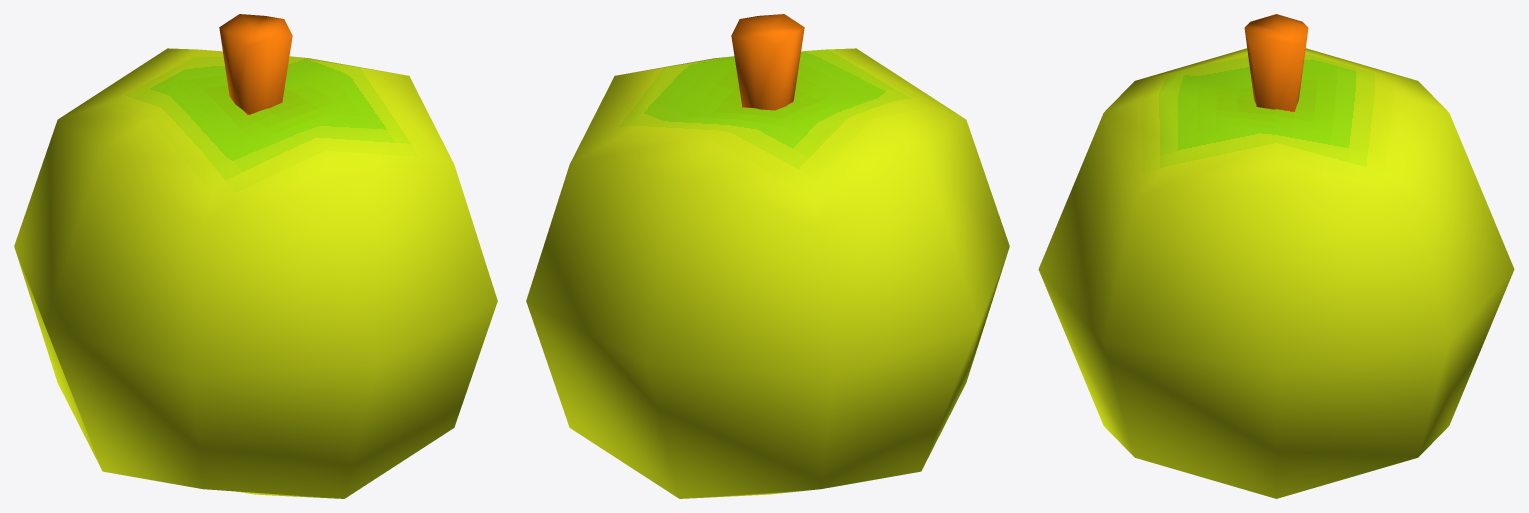
The model's file is Apple.fbx.
The picture shows the model from 3 angles, left to right: view 1: azimuth 30°, elevation 25°; view 2: azimuth 150°, elevation 25°; view 3: azimuth 270°, elevation 25°; orthographic projection. The views are drawn at different scales.
Visible parts, largest first — view 1: Cube; view 2: Cube; view 3: Cube.
Part boxes in pixels (left/top/right/bottom): Cube: left=14, top=14, right=497, bottom=498; Cube: left=526, top=14, right=1009, bottom=498; Cube: left=1038, top=14, right=1514, bottom=498.
Bounding box in the file's own units: 16.79 × 16.79 × 17.81.
